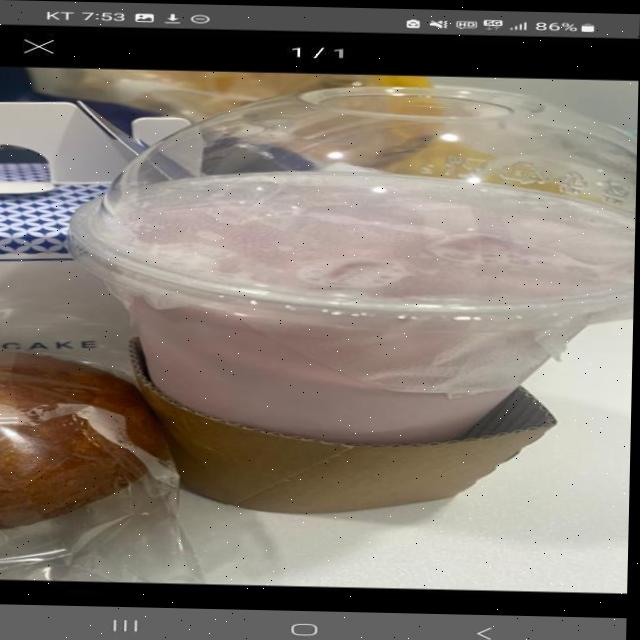cup: (57, 69, 639, 516)
